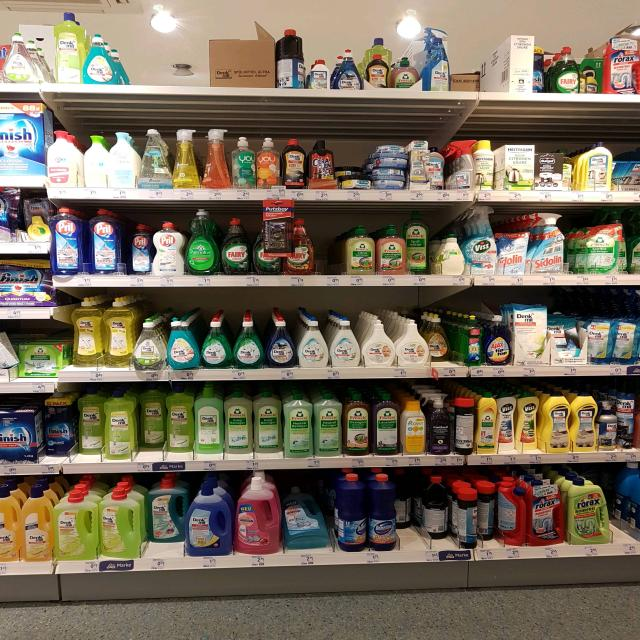unorganised: (395, 474, 454, 548), (135, 388, 194, 458), (42, 392, 99, 461), (140, 475, 186, 556), (335, 143, 407, 188), (281, 488, 331, 552), (454, 479, 498, 548), (337, 473, 368, 552), (274, 28, 305, 90), (497, 479, 525, 547), (201, 127, 230, 187), (429, 309, 459, 365), (166, 318, 198, 369), (403, 213, 430, 273), (128, 218, 152, 276), (453, 395, 474, 458), (612, 321, 636, 365), (581, 47, 602, 92), (428, 145, 449, 188), (532, 45, 548, 93), (564, 153, 578, 191)
